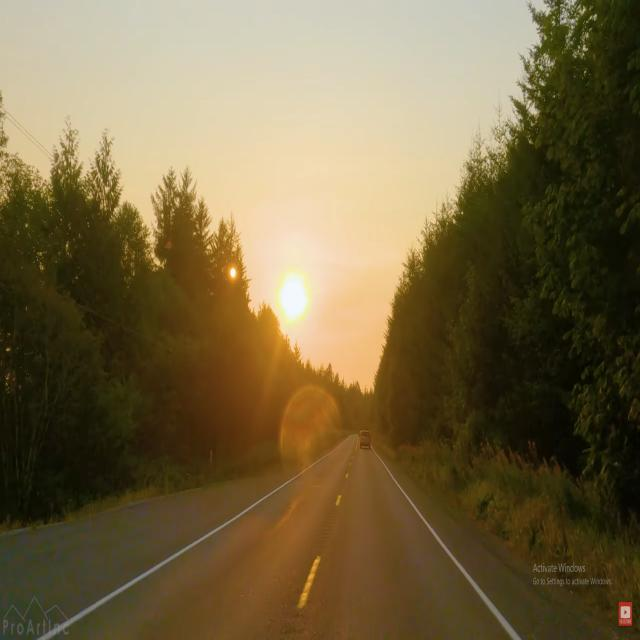sun: (276, 259, 310, 330)
